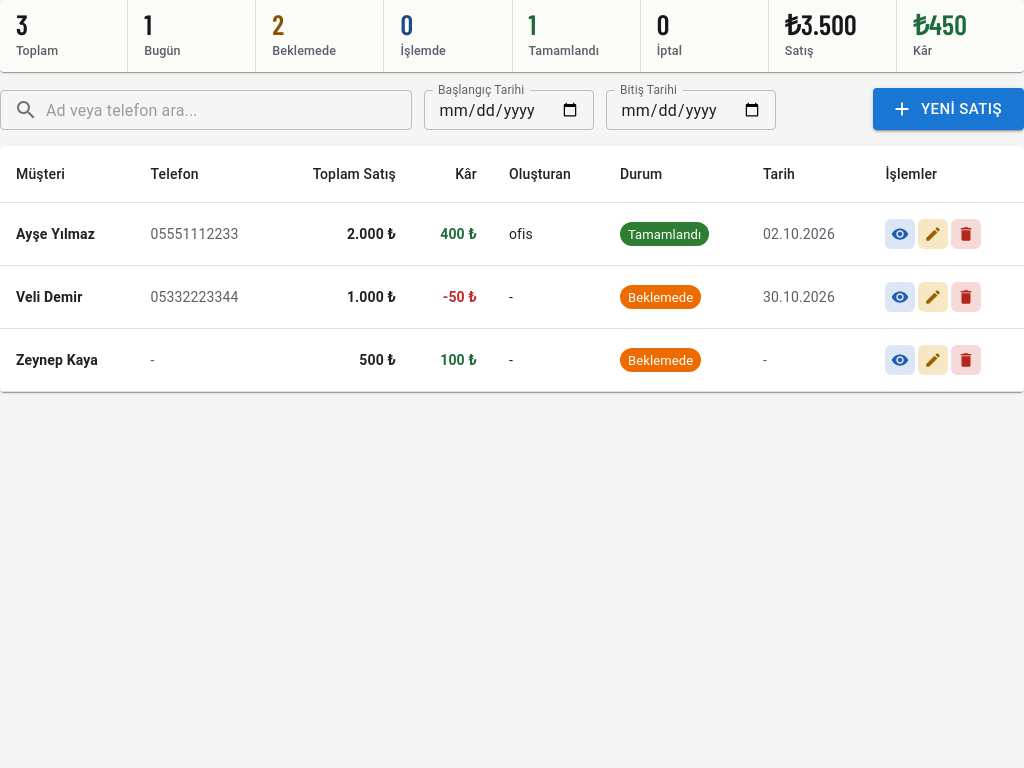
Scenario: Aksesuarlar: detay penceresi › ürünler stoktan marka/beden/renk ile zenginleşir; indirimli toplamlar; kalan ödeme
The width and height of the screenshot is (1024, 768).
Expected: the text "Zeynep Kaya" is shown, 0,329 -> 134,392
Click the button with test id "VisibilityIcon" at {"x": 900, "y": 234}, box 886,219 -> 916,249
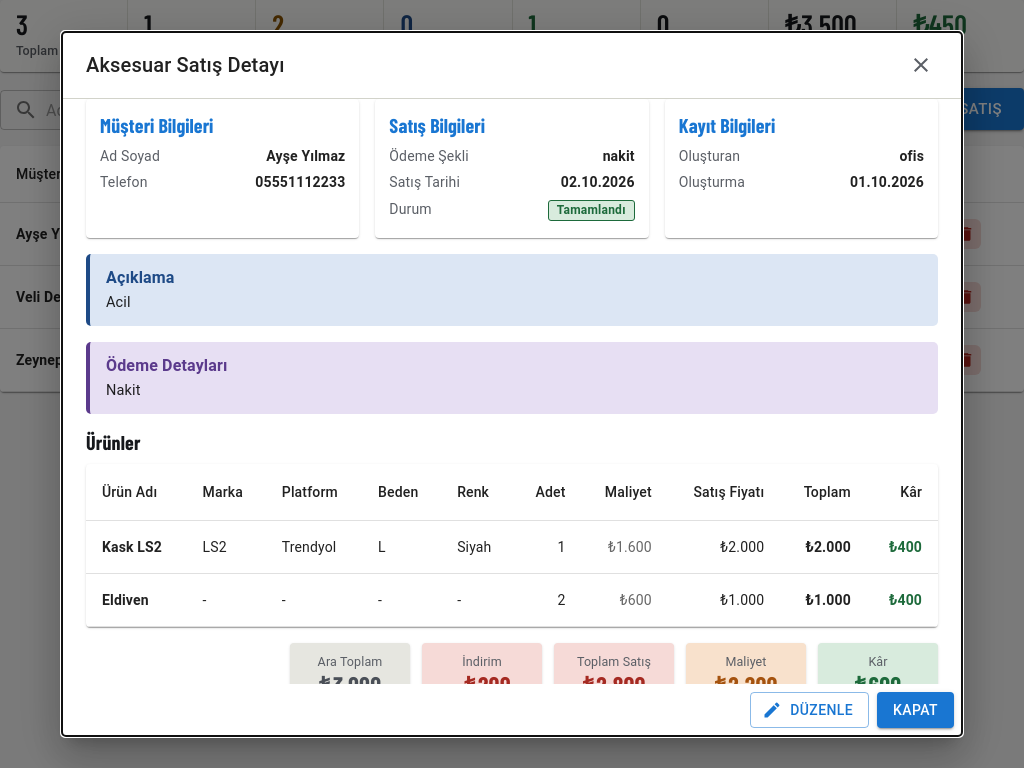
Result: the text "Aksesuar Satış Detayı" is shown at 86,53 -> 284,77
Result: the text "Acil" is shown at 106,294 -> 131,311
Result: the text "Nakit" is shown at 106,382 -> 141,399
